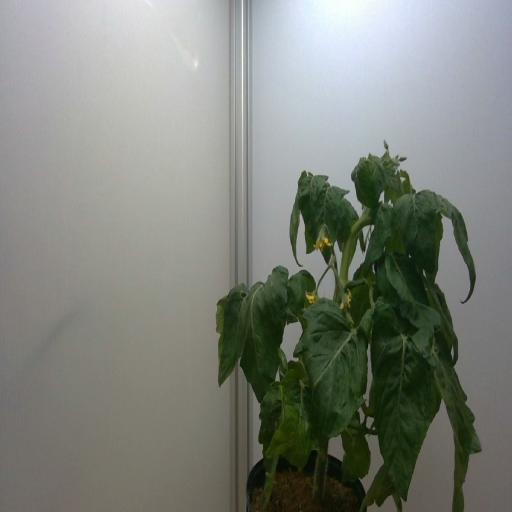Tomato-Leaves-Cupboard-: (373, 332, 441, 512), (296, 304, 368, 442), (431, 346, 484, 511), (233, 265, 290, 405), (274, 360, 319, 470), (392, 194, 447, 284), (439, 195, 478, 307), (214, 281, 254, 389), (384, 241, 431, 313), (310, 180, 349, 261), (260, 383, 291, 476), (422, 276, 457, 355), (357, 456, 407, 506), (337, 418, 372, 486), (358, 209, 394, 270), (283, 268, 319, 327), (352, 154, 386, 204), (340, 196, 366, 254), (287, 188, 305, 271), (349, 262, 376, 310), (298, 167, 330, 207), (396, 166, 420, 196), (274, 343, 292, 381)
